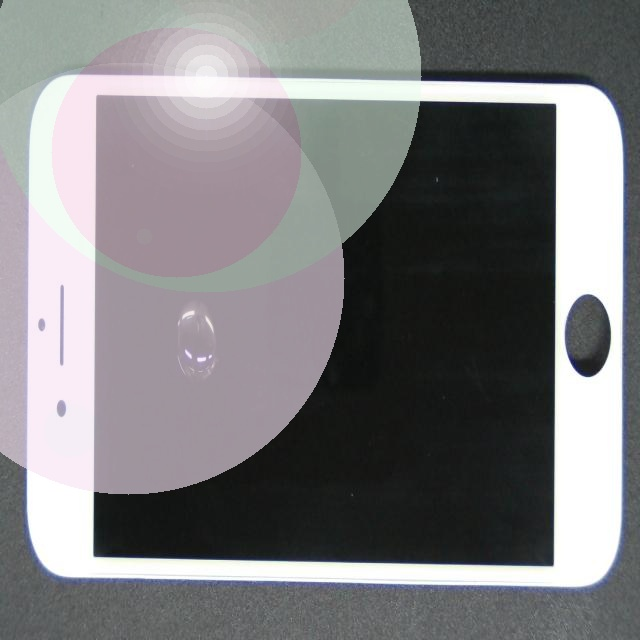oil: (124, 169, 312, 459)
